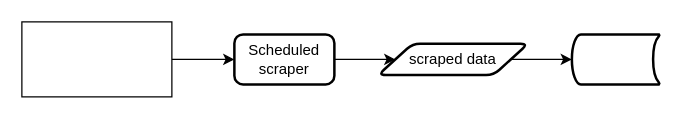
The diagram is 683 pixels wide and 119 high, and some of its shapes have lost their labels. Each missing label, with the centre of its shape:
"Cloud storage" goes at (x=615, y=58).
"MMDA-TV5 Traffic Monitoring Website" goes at (x=96, y=59).
